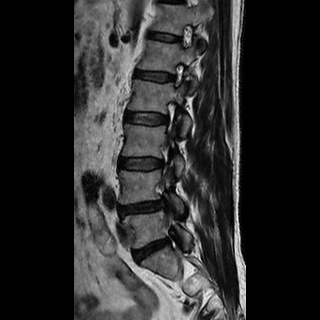LFS0: (168, 58, 188, 92)
